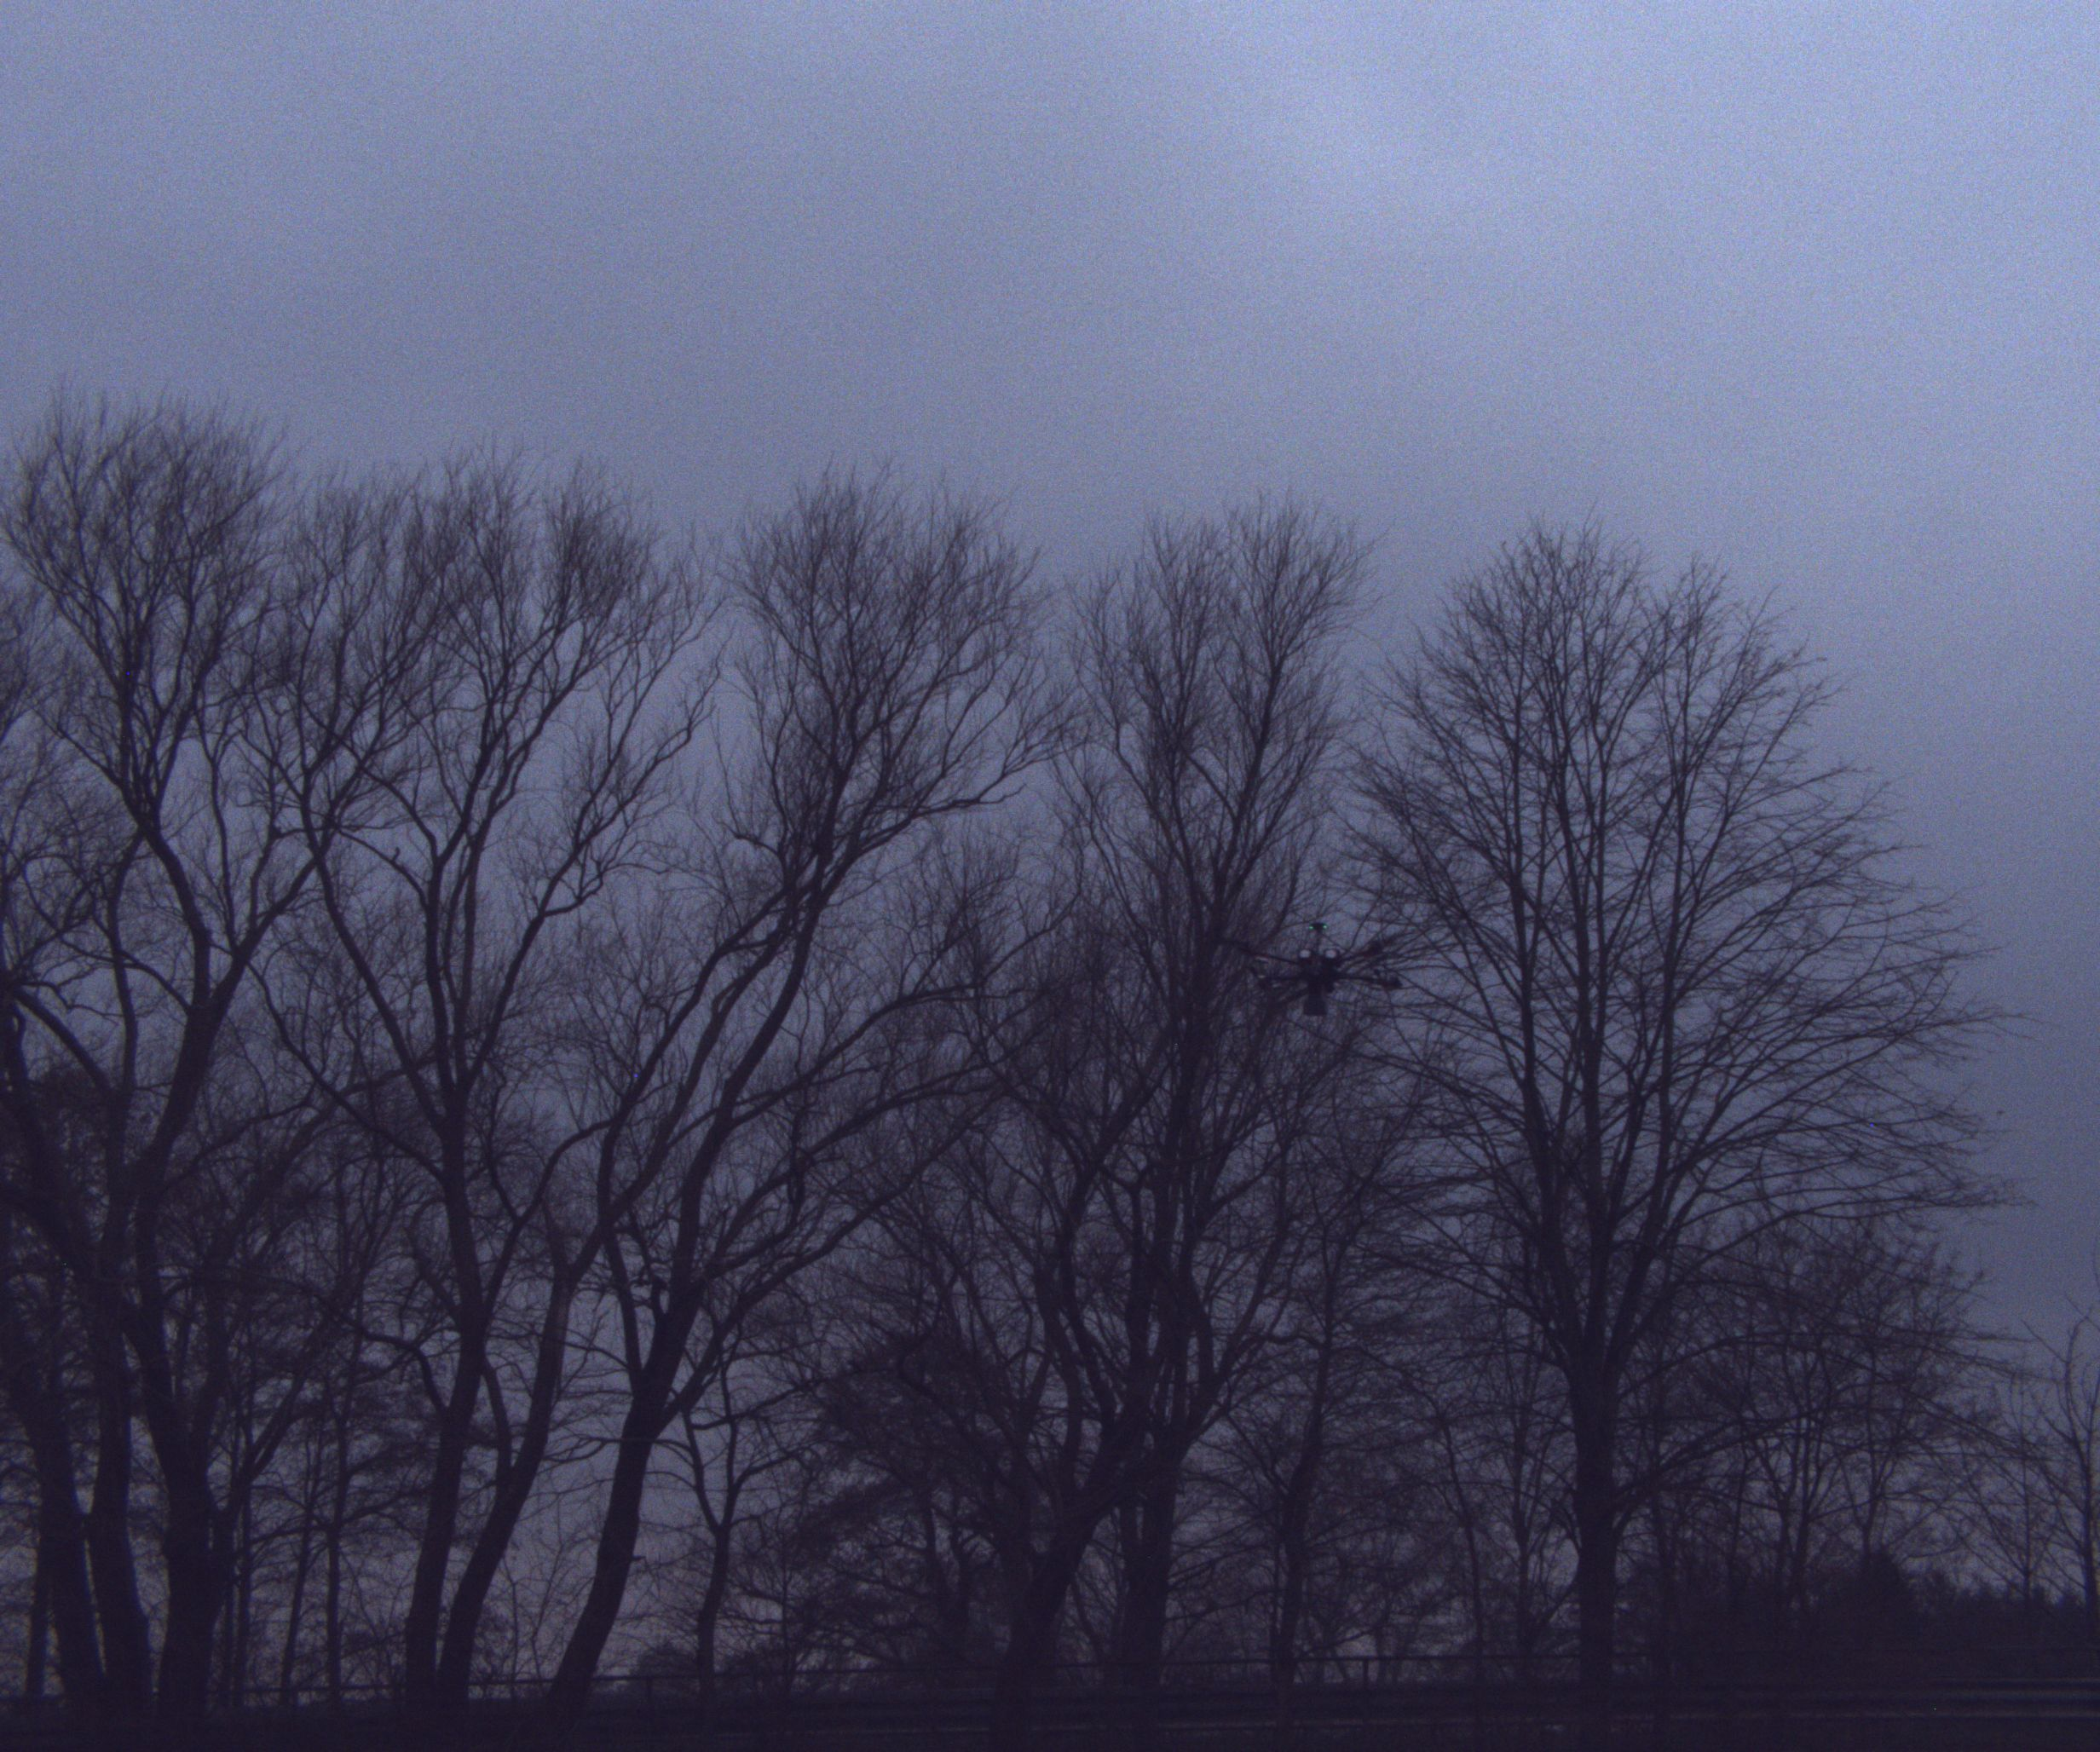Drohne: (1200, 886, 1465, 1032)
